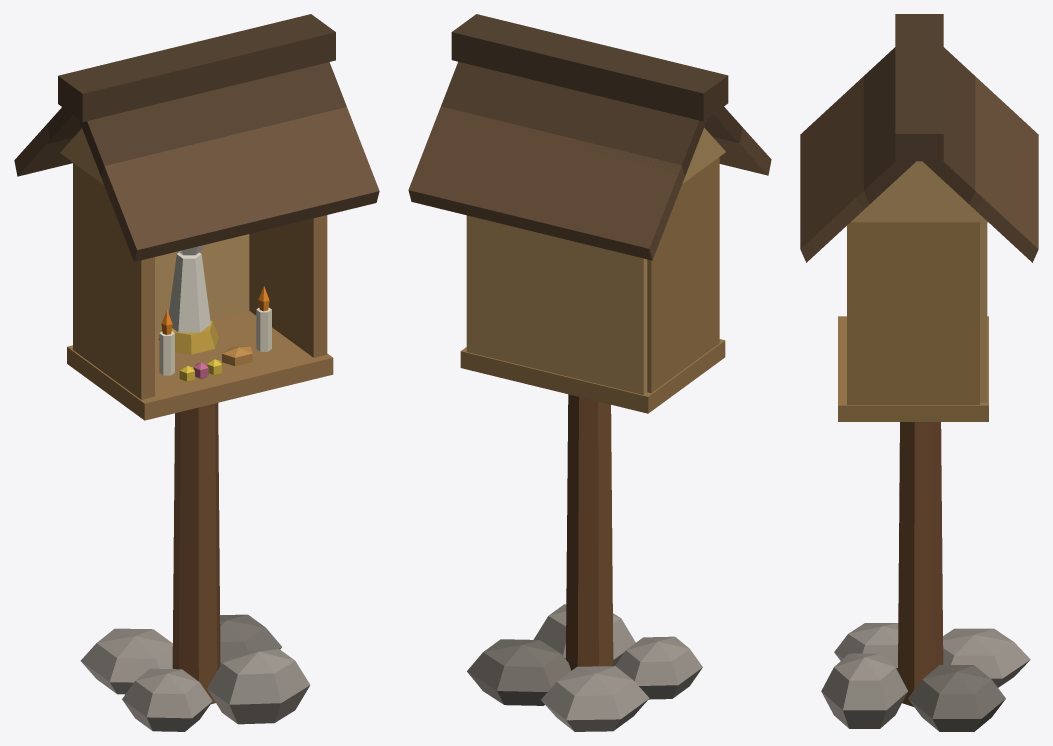
File: annex_home_shrine.glb
3 renders of one model, left to right at view 1: azimuth 30°, elevation 25°; view 2: azimuth 150°, elevation 25°; view 3: azimuth 270°, elevation 25°, orthographic. The views are drawn at different scales.
Visible parts, largest first — view 1: annex_home_shrine; view 2: annex_home_shrine; view 3: annex_home_shrine.
Part boxes in pixels (left/top/right/bottom): annex_home_shrine: left=14, top=14, right=379, bottom=731; annex_home_shrine: left=408, top=14, right=771, bottom=731; annex_home_shrine: left=800, top=14, right=1038, bottom=731.
Bounding box in the file's own units: 0.94 × 2.32 × 0.79.
